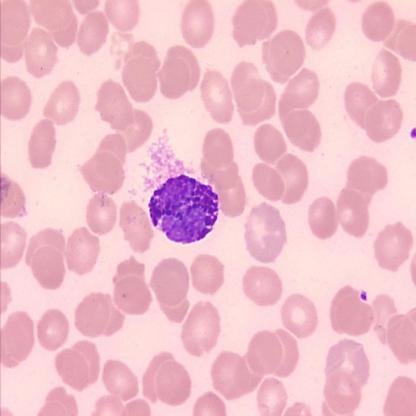Basophil: (148, 170, 220, 245)
